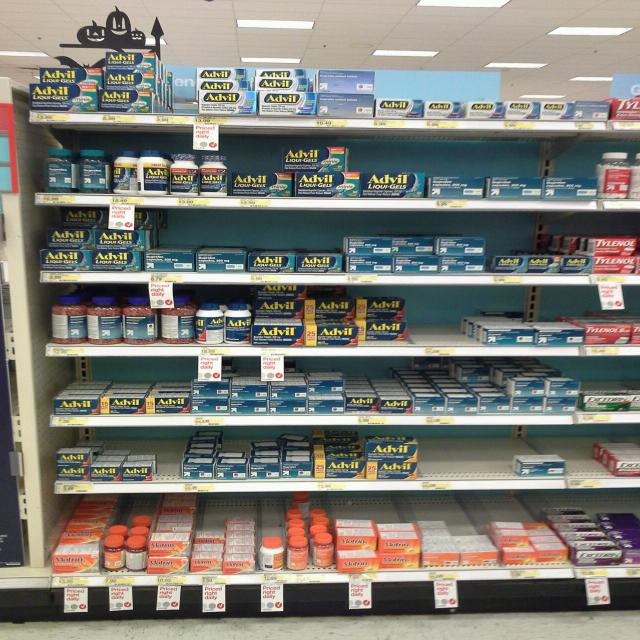void: (466, 432, 512, 496), (568, 429, 605, 491), (409, 285, 440, 357), (423, 428, 456, 492), (448, 288, 475, 362)
